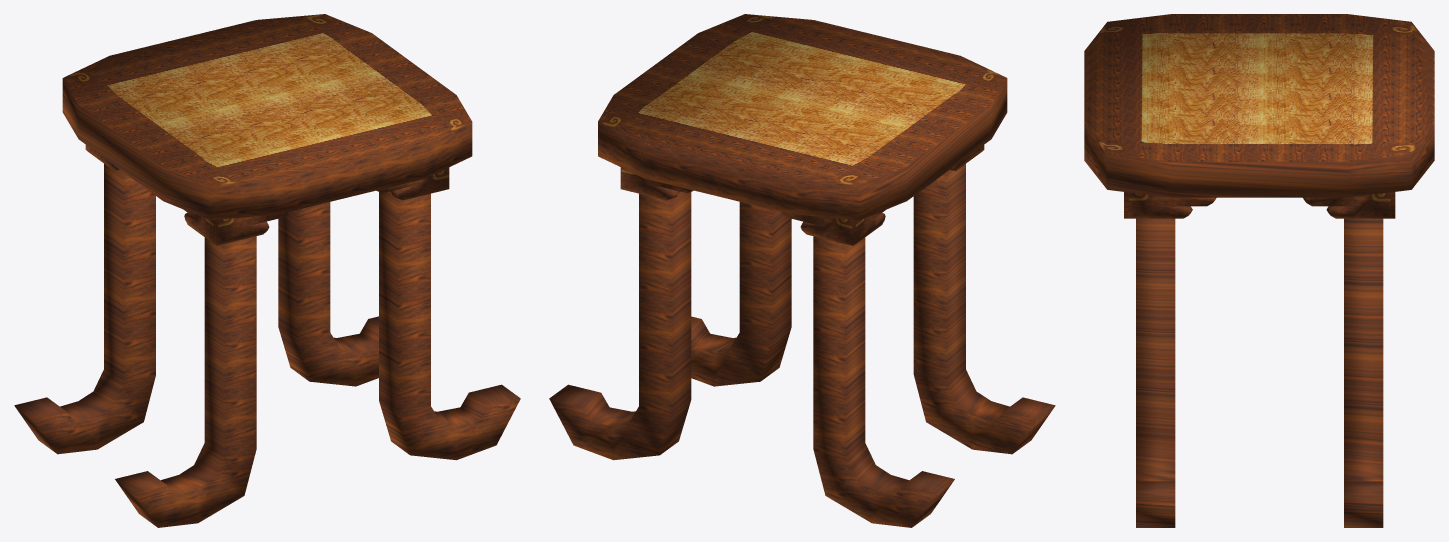
File: table2.fbx
3 views of the same model, side by side, from view 1: azimuth 30°, elevation 25°; view 2: azimuth 150°, elevation 25°; view 3: azimuth 270°, elevation 25° (orthographic). The views are drawn at different scales.
Visible parts, largest first — view 1: obj4, obj1, obj2, obj3; view 2: obj4, obj1, obj2, obj3; view 3: obj1, obj4, obj3.
Part boxes in pixels (x1,y1,x2,y2): obj4: [14, 164, 520, 527]; obj1: [62, 14, 472, 220]; obj2: [85, 145, 449, 245]; obj3: [87, 146, 214, 244]; obj4: [549, 164, 1055, 527]; obj1: [598, 14, 1007, 220]; obj2: [620, 145, 984, 245]; obj3: [855, 146, 982, 244]; obj1: [1084, 14, 1434, 197]; obj4: [1136, 218, 1383, 527]; obj3: [1128, 192, 1391, 218].
Bounding box in the file's own units: 264 × 227 × 200.
Materials: 1 (1 with a texture image).
